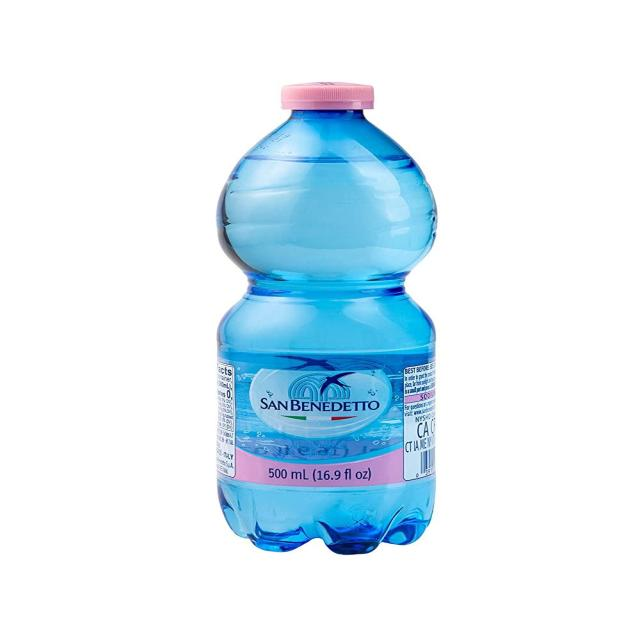bottle: (197, 14, 463, 504)
